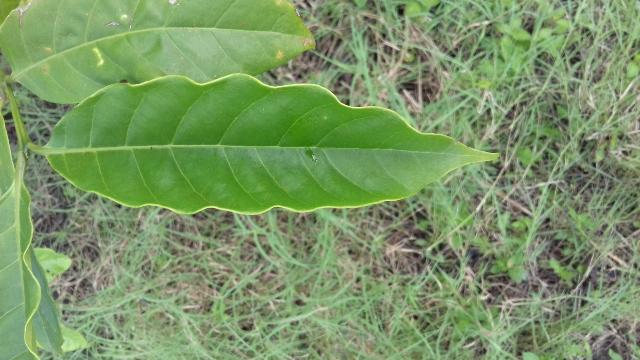healthy: (30, 72, 510, 216)
